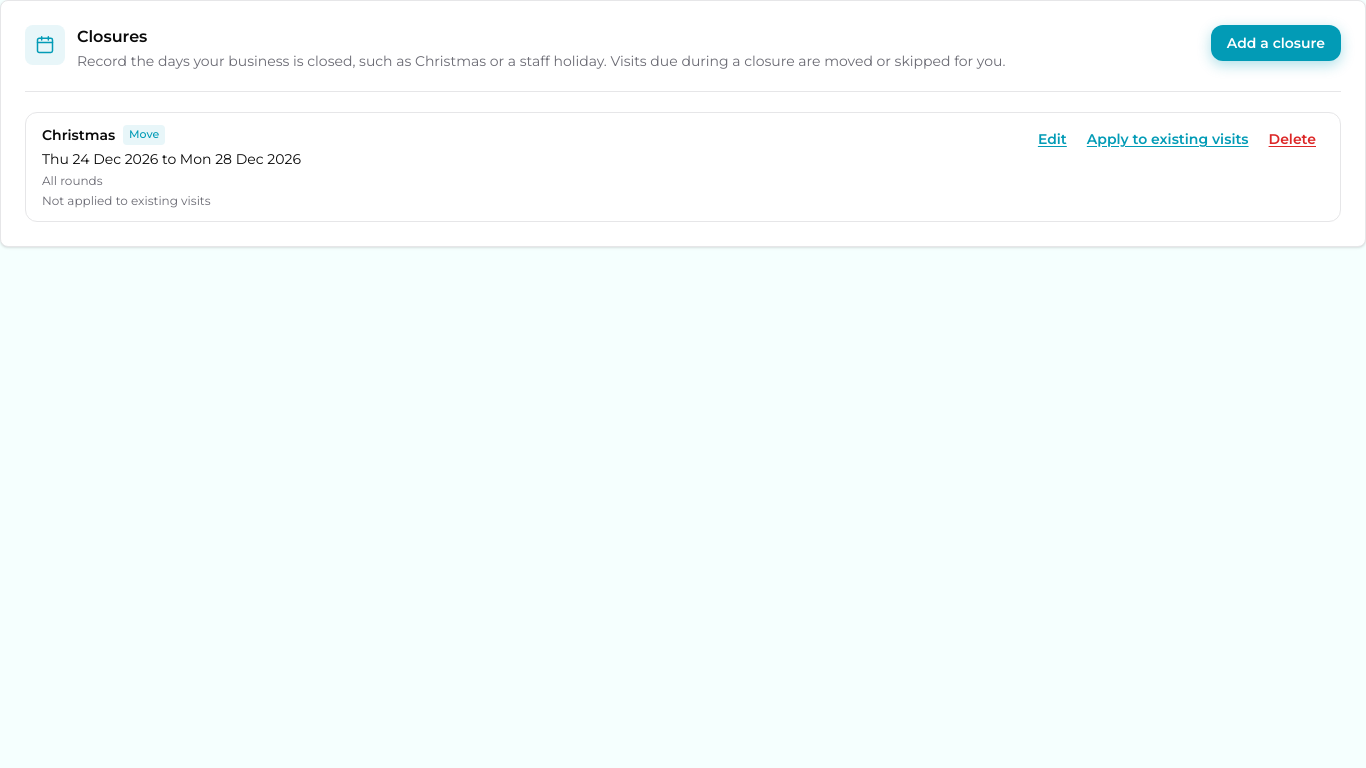
Test case: ClosuresPanel delete › asks first, says visits are not restored, and keeps the closure on cancel
Click the button with aria-label "Delete Christmas" at coordinates (1292, 139), box [1261,125,1324,153]
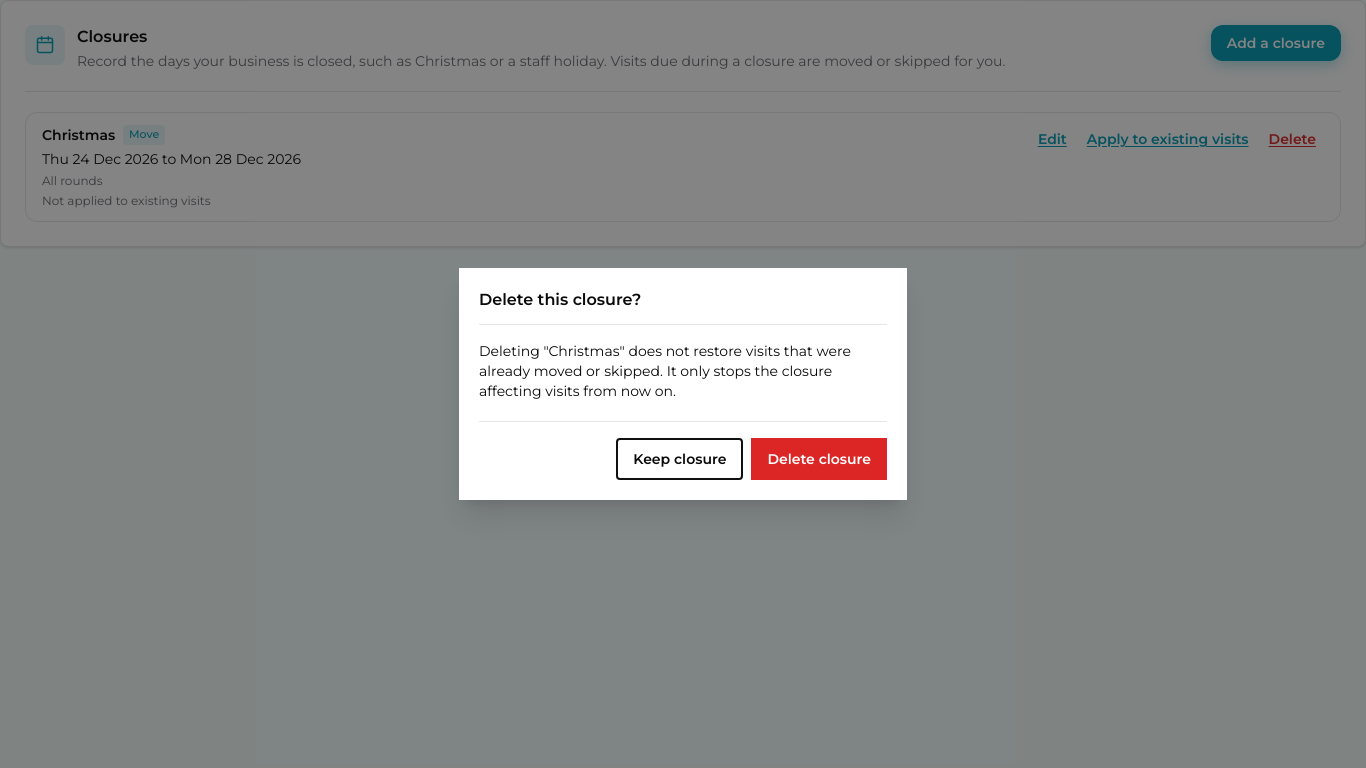
Expected: the dialog "Delete this closure?" shows "does not restore visits that were already moved or skipped", [479,342,851,400]
Expected: the dialog "Delete this closure?" shows "\"Christmas\"", [479,342,851,400]
Click the button "Keep closure" at coordinates (680, 459), box [616,438,743,480]
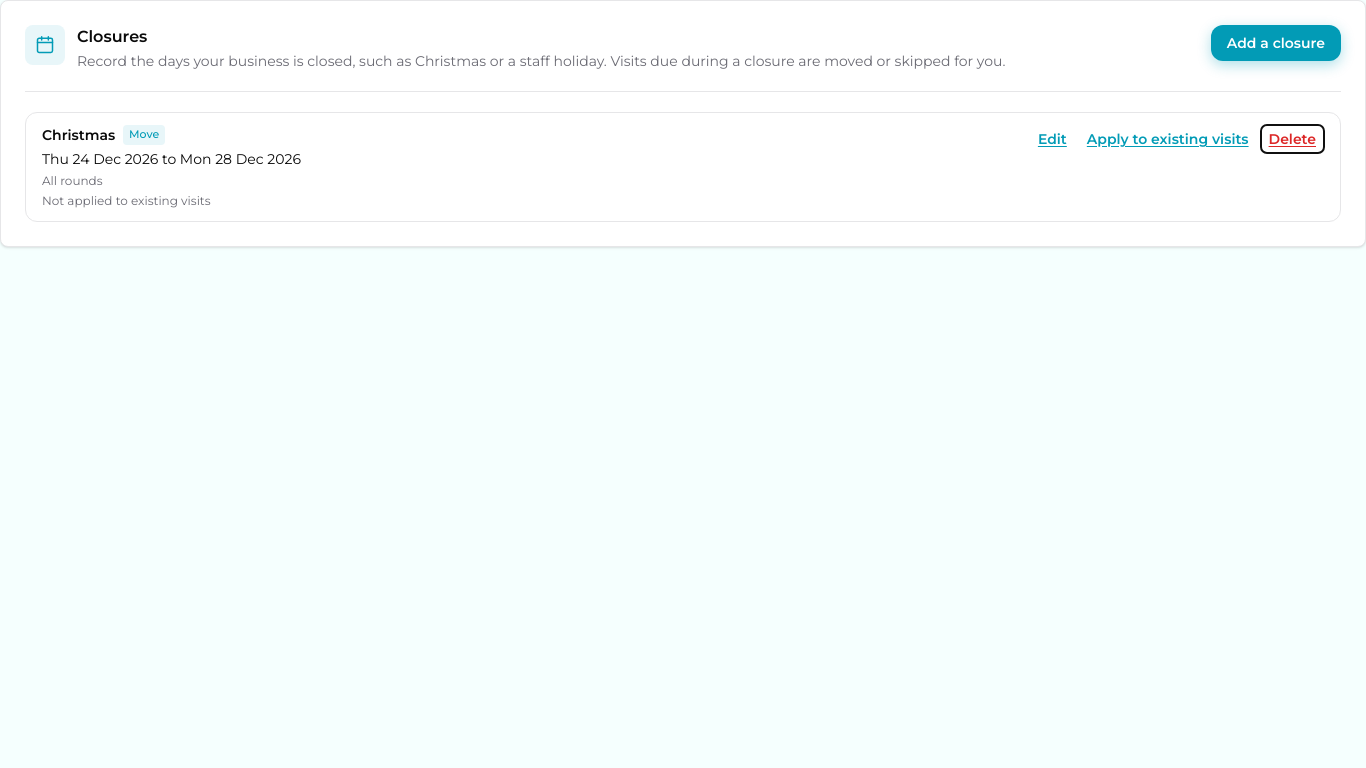
Expected: the dialog is gone
